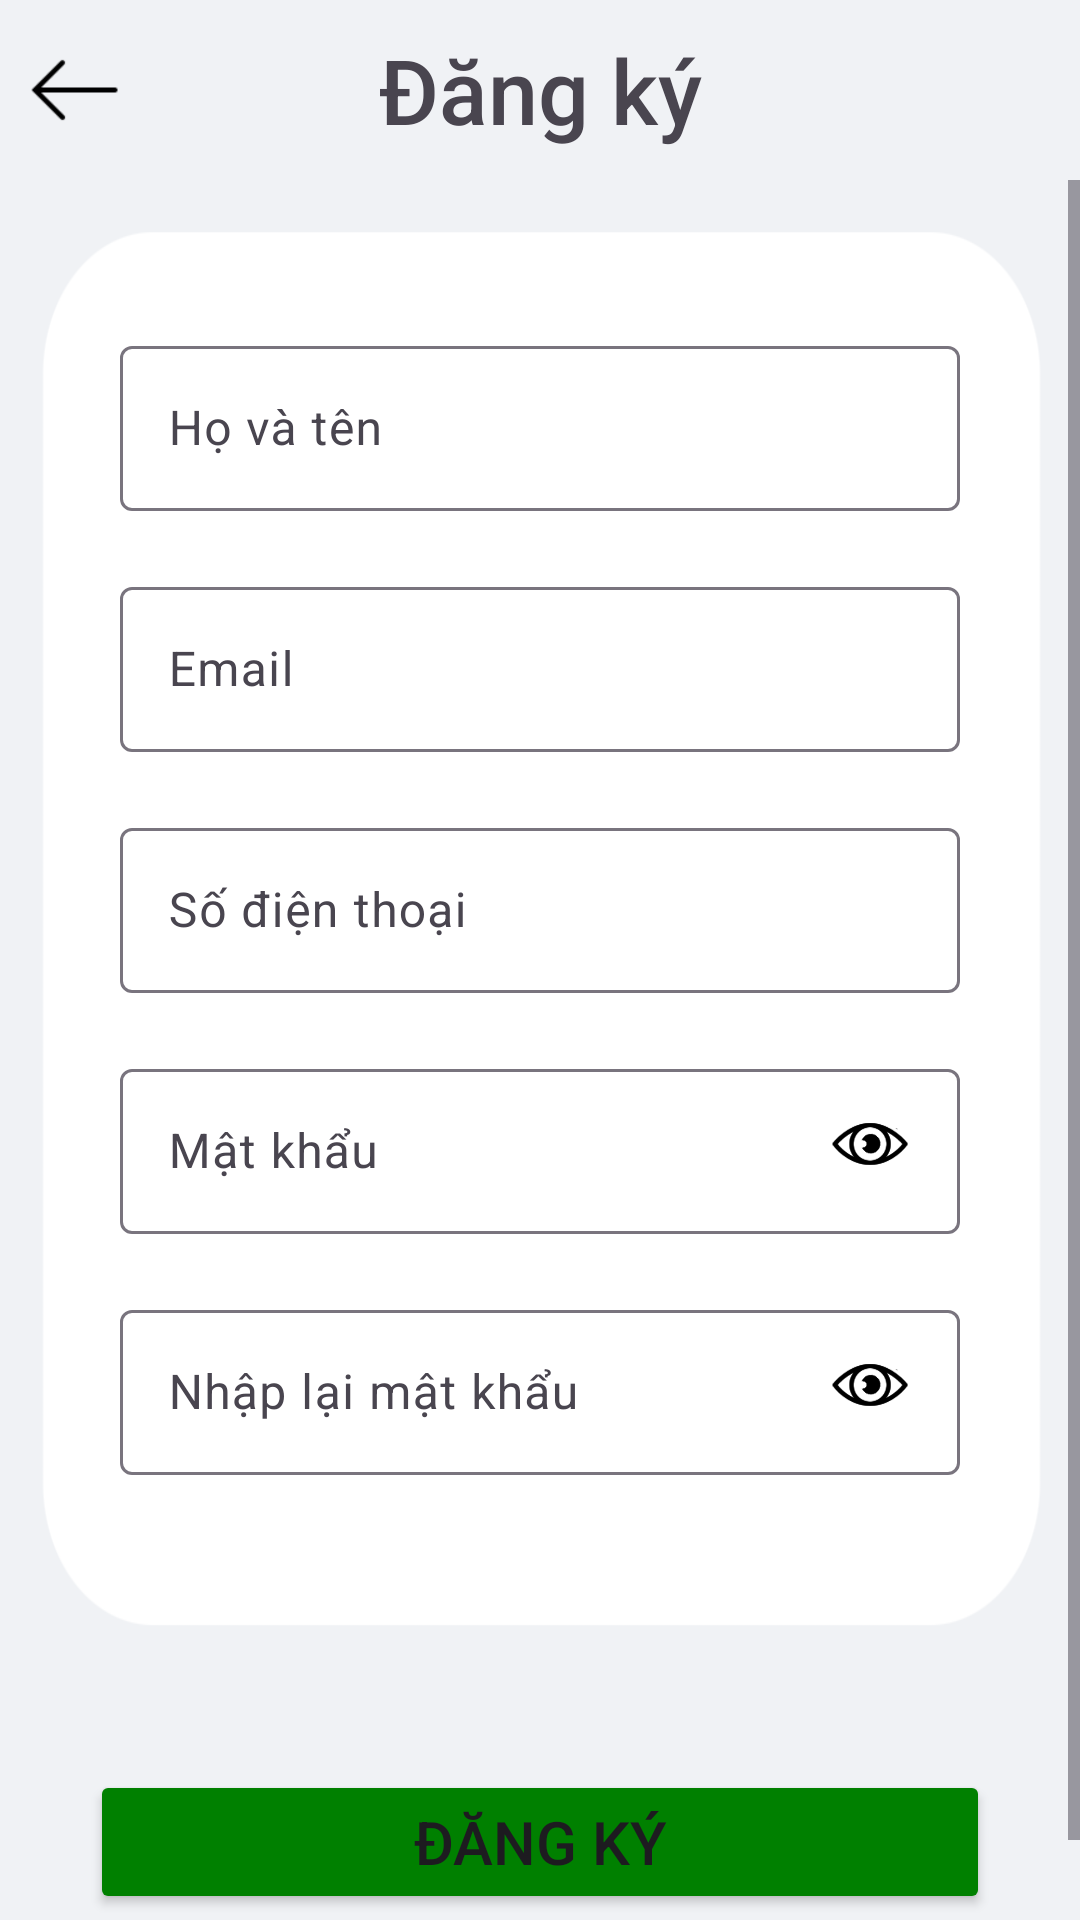

Point at icon controls on the screen. Image size 1080 × 1920, points as (x,y).
back: (74,90)
unhide: (870,1144), (870,1385)
